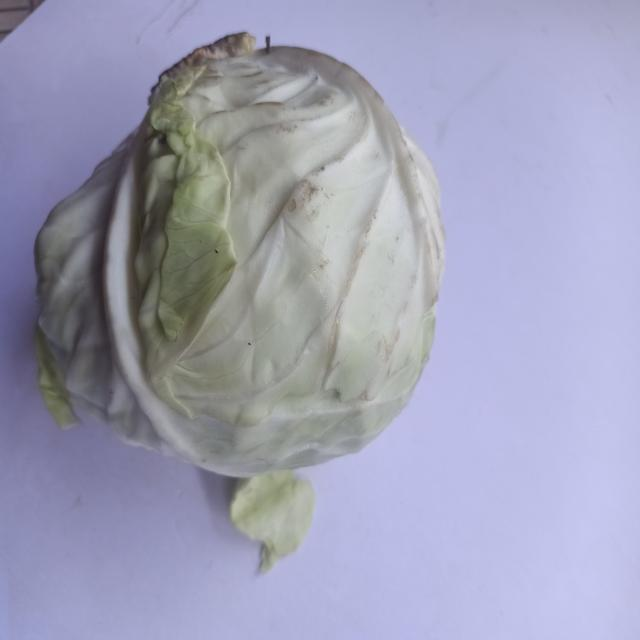Cabbage: (23, 22, 462, 572)
